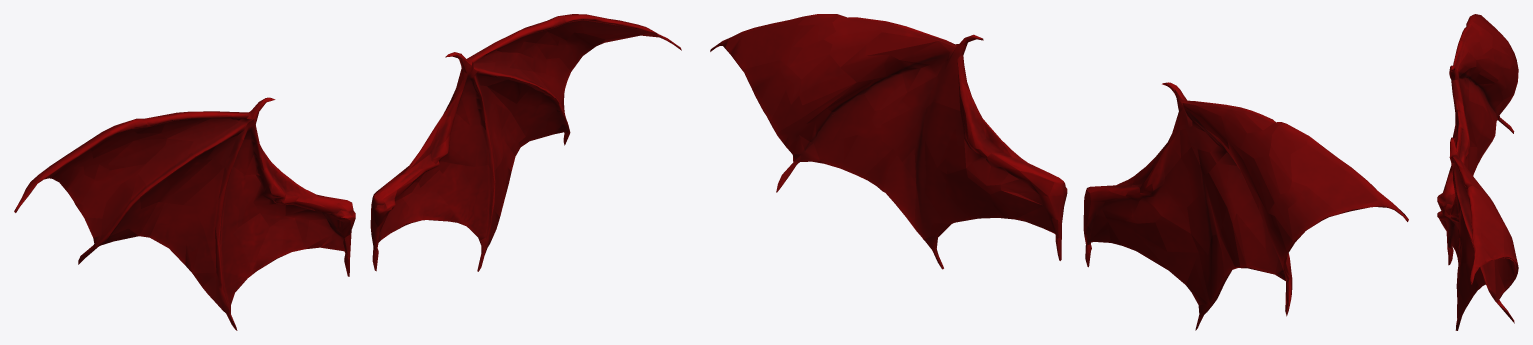
The model's file is devil_wings_optimized.glb.
The picture shows the model from 3 angles, left to right: view 1: azimuth 30°, elevation 25°; view 2: azimuth 150°, elevation 25°; view 3: azimuth 270°, elevation 25°; orthographic projection. The views are drawn at different scales.
Parts seen in each view (by area): view 1: world; view 2: world; view 3: world.
Boxes of the visible parts, x1=… form: world: x1=14, y1=14, x2=681, y2=330; world: x1=710, y1=14, x2=1408, y2=330; world: x1=1437, y1=14, x2=1518, y2=330.
Bounding box in the file's own units: 1.9 × 0.6193 × 0.2518.
Materials: 1 (1 with a texture image).
